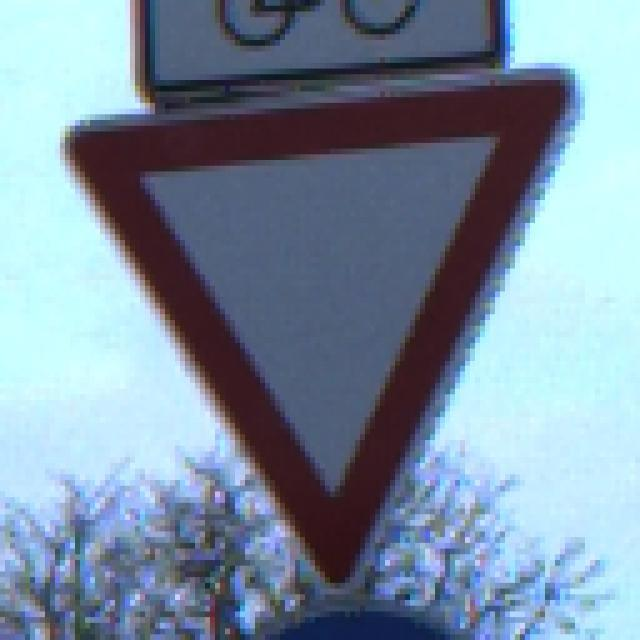give way: (57, 58, 586, 585)
